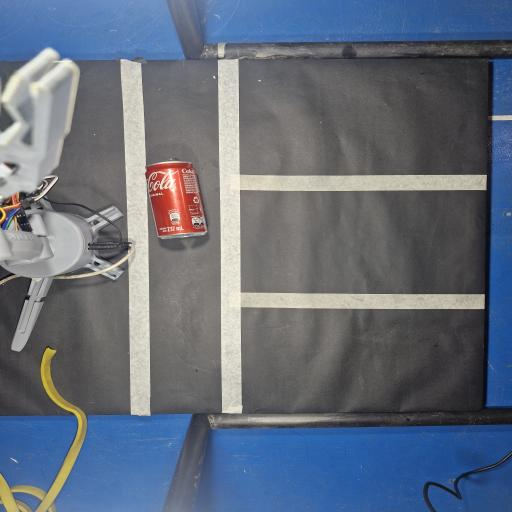lata: (145, 158, 207, 239)
